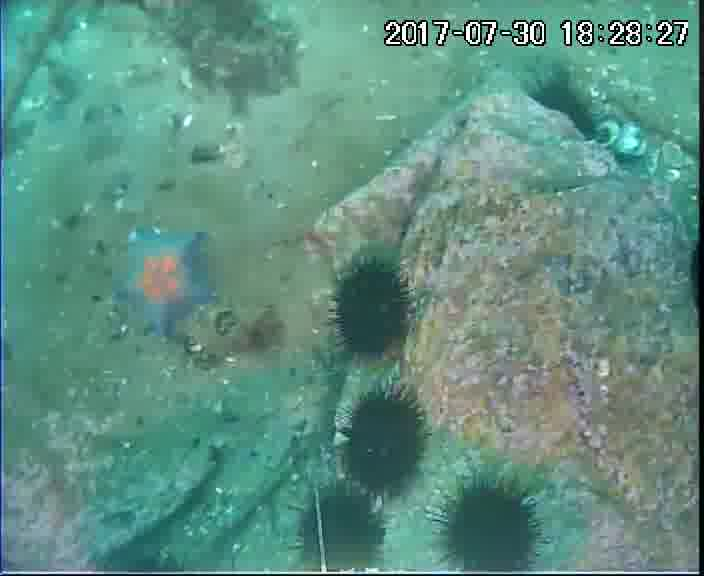echinus: (438, 481, 546, 576), (342, 390, 430, 491), (332, 260, 414, 357), (296, 488, 386, 576), (533, 77, 599, 142)
starfish: (110, 227, 220, 346)
